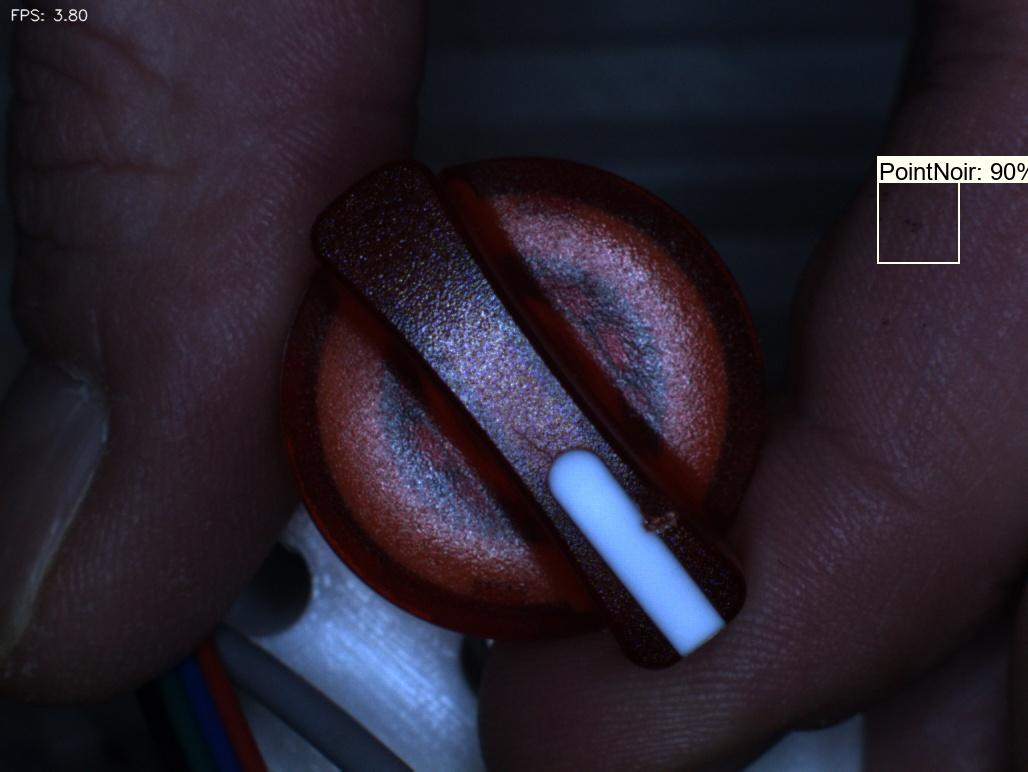Choc: (620, 483, 705, 563)
